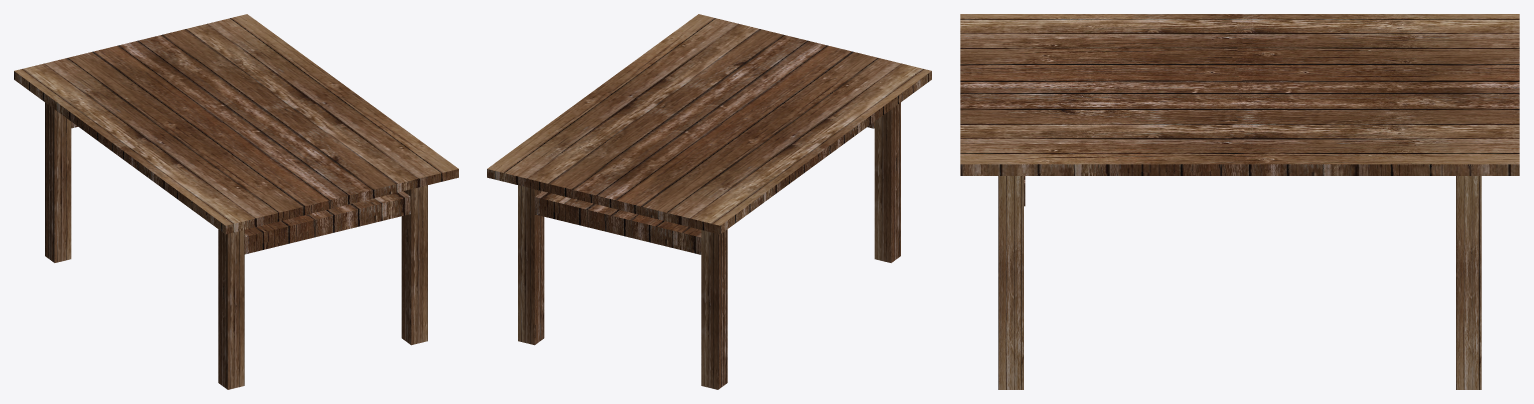
File: table.dae
3 views of the same model, side by side, from view 1: azimuth 30°, elevation 25°; view 2: azimuth 150°, elevation 25°; view 3: azimuth 270°, elevation 25° (orthographic). The views are drawn at different scales.
Visible parts, largest first — view 1: node; view 2: node; view 3: node.
Boxes of the visible parts, box(x1,y1,x2,y2) form: node: box(14, 14, 458, 389); node: box(487, 14, 931, 389); node: box(960, 14, 1519, 389).
Size of the model in its own units: 140 by 103 by 220.
Materials: 1 (1 with a texture image).
